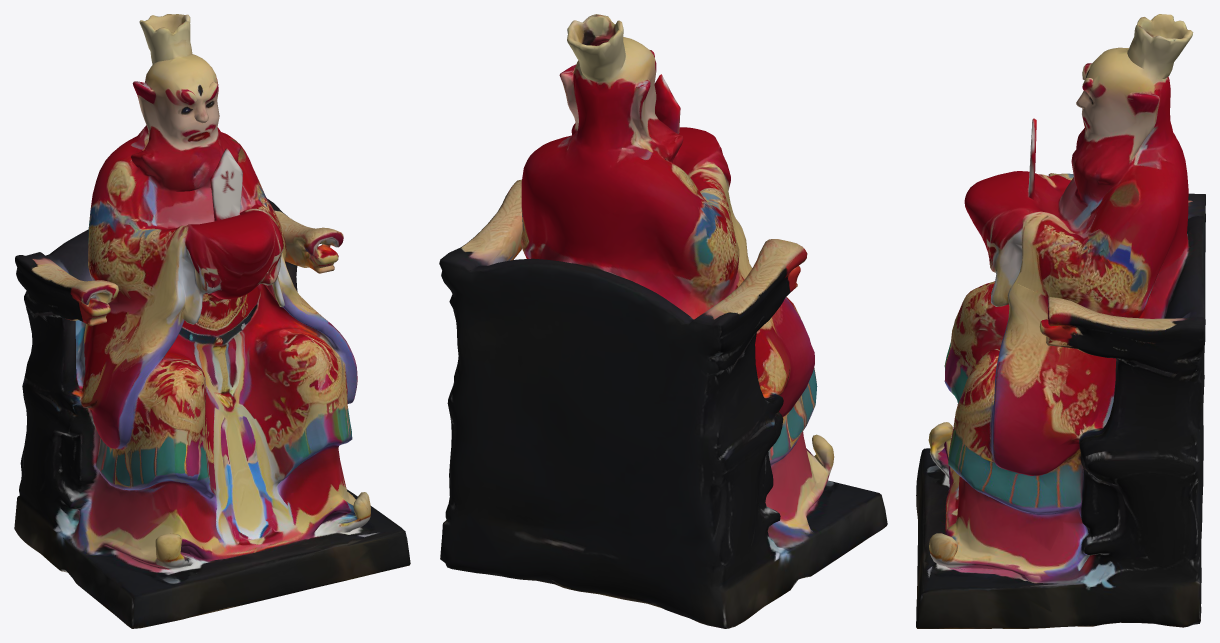
3 renders of one model, left to right at view 1: azimuth 30°, elevation 25°; view 2: azimuth 150°, elevation 25°; view 3: azimuth 270°, elevation 25°, orthographic. The views are drawn at different scales.
Visible parts, largest first — view 1: ST-祝融; view 2: ST-祝融; view 3: ST-祝融.
Part boxes in pixels (left/top/right/bottom): ST-祝融: left=14, top=14, right=410, bottom=628; ST-祝融: left=439, top=14, right=887, bottom=628; ST-祝融: left=916, top=14, right=1205, bottom=628.
Bounding box in the file's own units: 0.2076 × 0.1726 × 0.3552.
